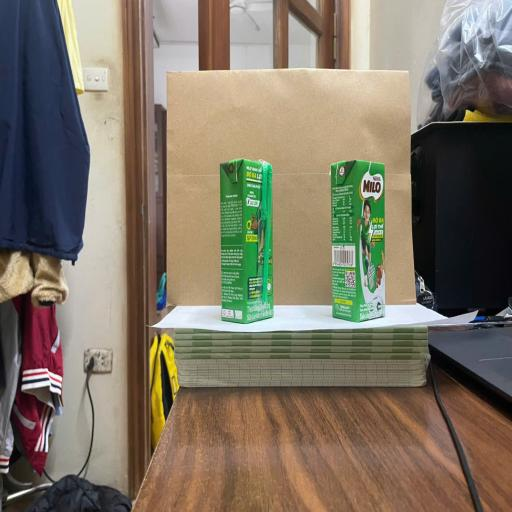milo: (331, 159, 386, 323), (219, 160, 273, 324)
